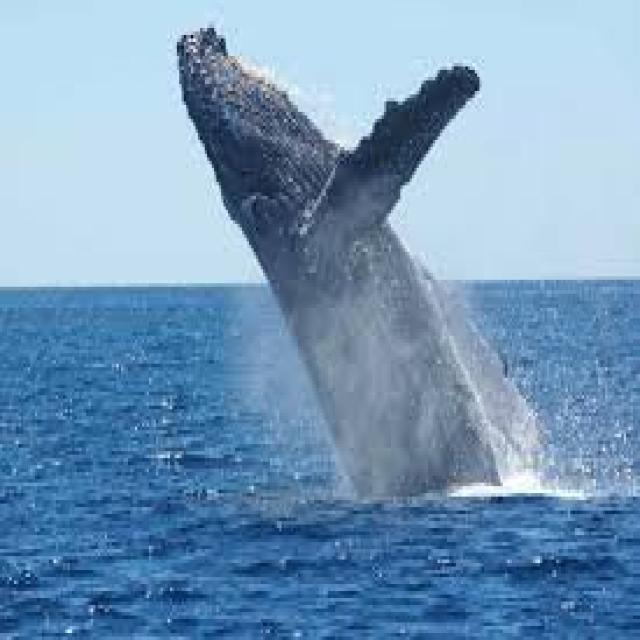whale: (177, 28, 496, 493)
